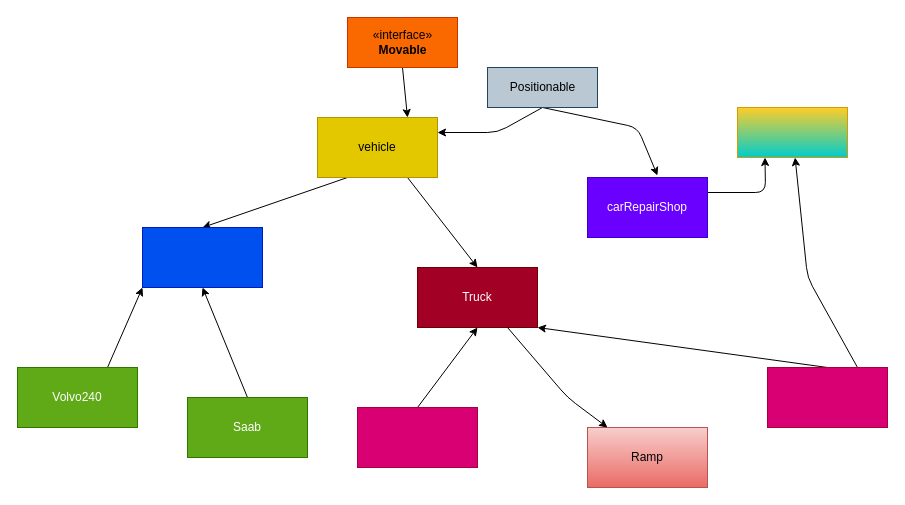
Image size: 905x505. Some labels were removed from this diagram. The centre of each missing label's shape, as x and y in pixels:
car: the point at 202,257
Loadable: the point at 792,132
Scania: the point at 417,437
Transporter: the point at 827,397
